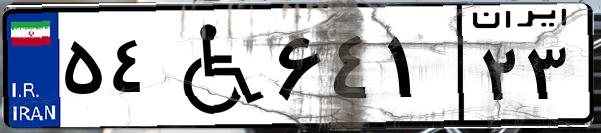1: (385, 28, 445, 110)
2: (475, 38, 525, 113)
3: (525, 38, 570, 115)
4: (330, 28, 385, 110), (110, 28, 158, 98)
5: (57, 26, 110, 100)
6: (270, 28, 330, 110)
ژ (معلولین و جانبازان): (158, 12, 270, 120)
